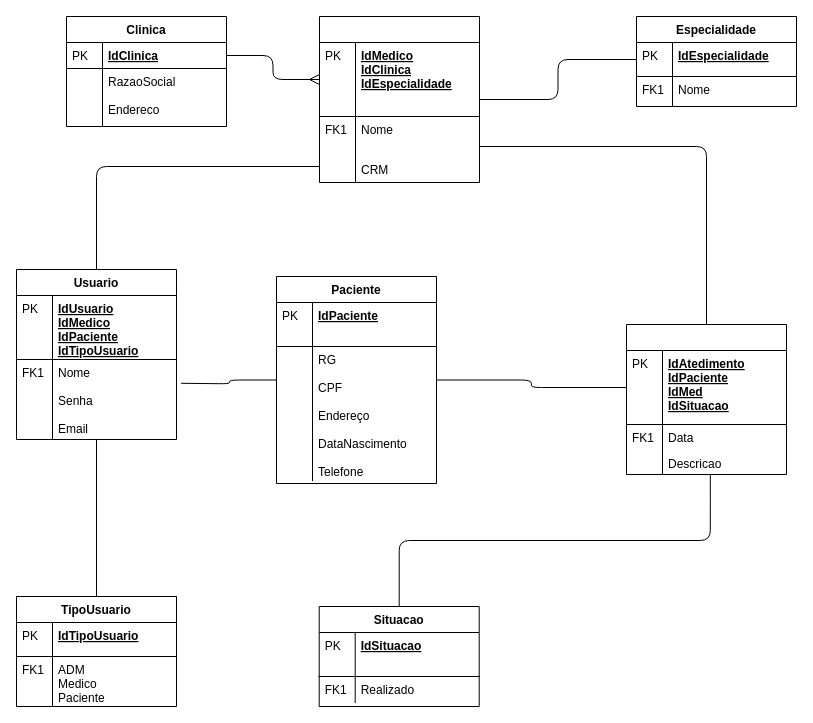
Some shapes in this 813 by 723 pixel diagram are drawn without their labels. The shapes that lost their labels are listed below. From the top down, each one's box as (x1, y1, x2, y2) in pixels, then its label:
(318, 16, 480, 182): Médicos
(626, 324, 786, 474): Consulta
